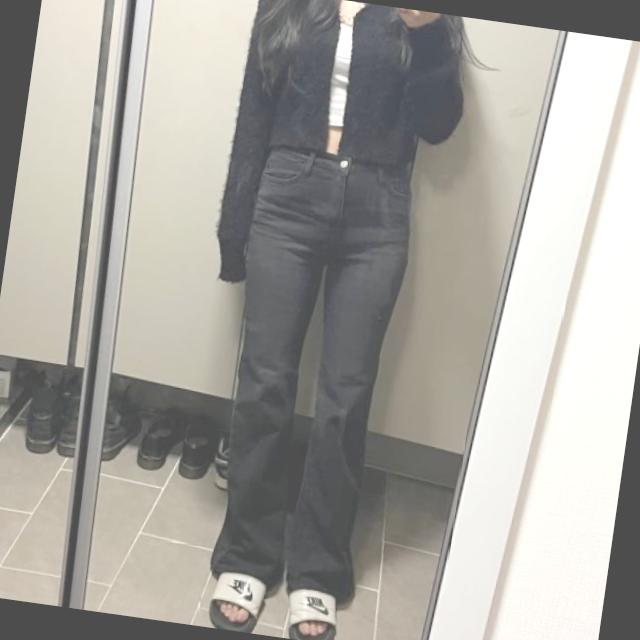cardigan: (209, 0, 473, 312)
denimpants: (198, 143, 423, 609)
